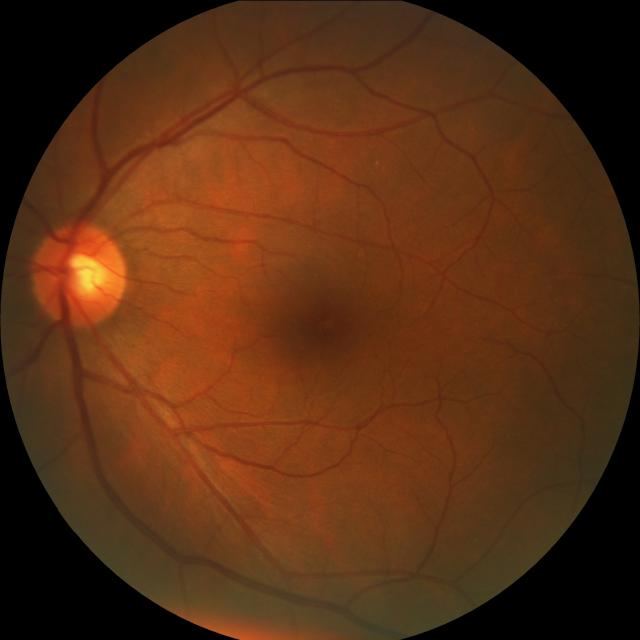OC: (61, 252, 106, 300)
OD: (36, 221, 128, 325)
